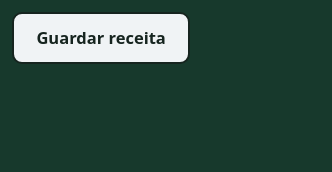
Test: SaveRecipeButton › guarda uma receita que ainda não estava guardada
The image size is (332, 172).
Click the button: [101, 38] box [12,12,190,64]
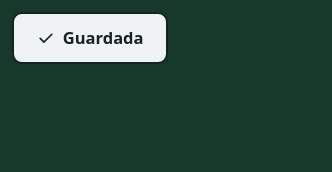
Result: the button "Guardar receita" no longer shows "Guardar receita"
